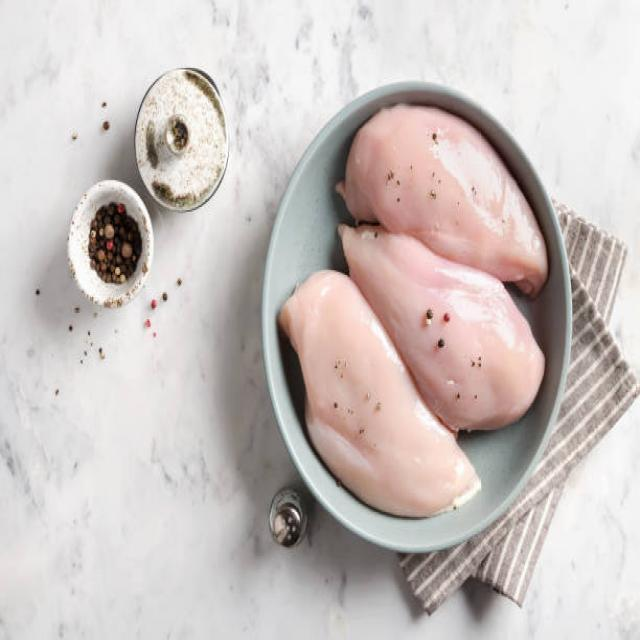Chicken Breast: (383, 242, 560, 420), (245, 305, 412, 492), (352, 111, 562, 212)
